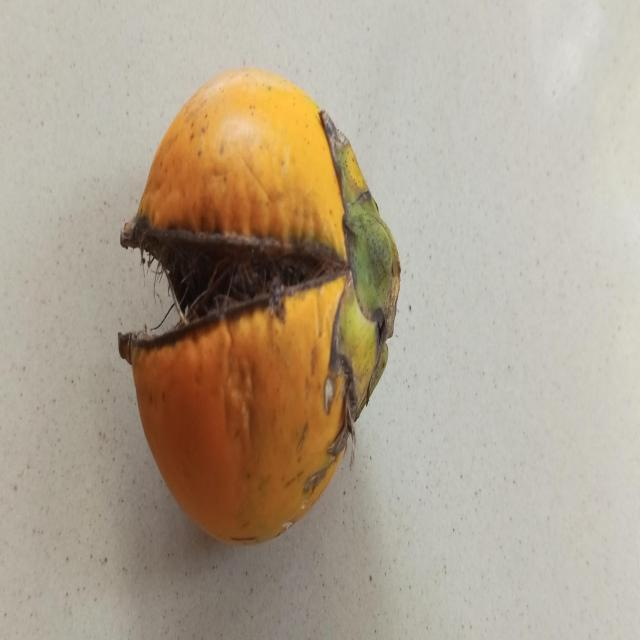damaged: (118, 69, 402, 548)
